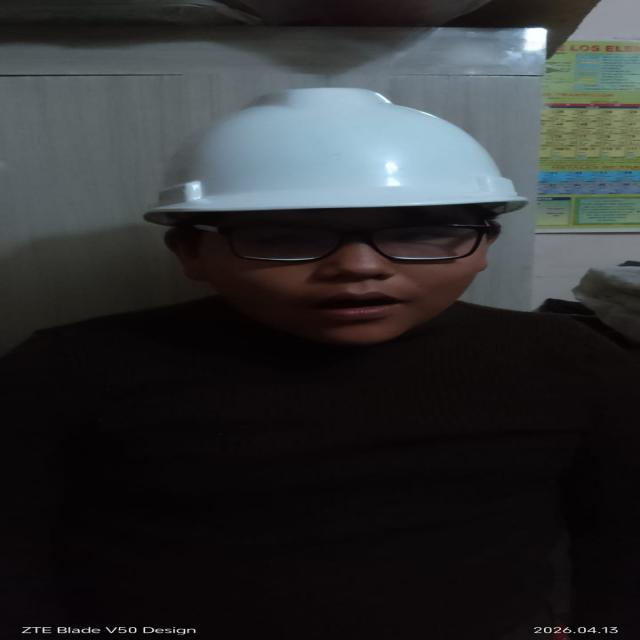casco: (104, 79, 574, 222)
